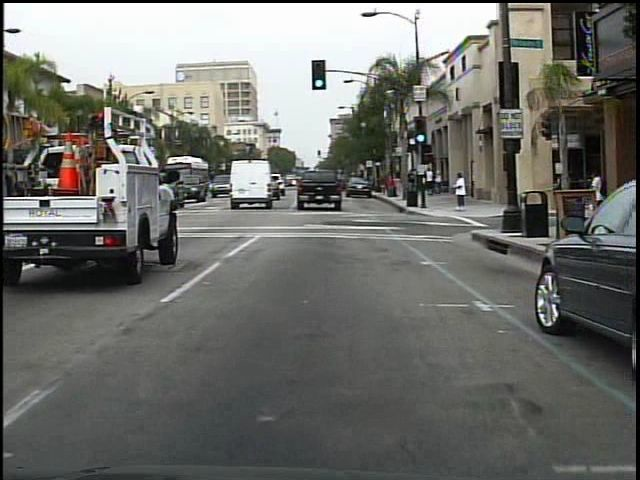person: (448, 170, 472, 216)
